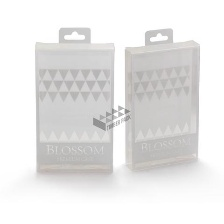plastic_box: (28, 19, 118, 180), (119, 22, 205, 176)
